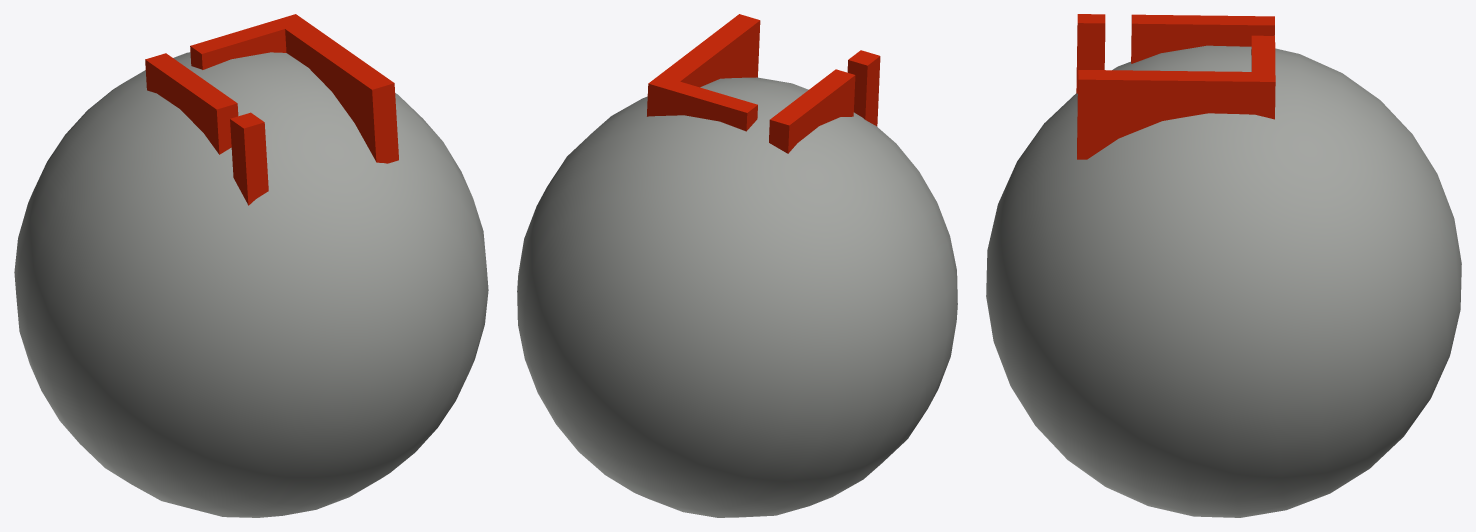
The picture shows the model from 3 angles, left to right: view 1: azimuth 30°, elevation 25°; view 2: azimuth 150°, elevation 25°; view 3: azimuth 270°, elevation 25°; orthographic projection. The views are drawn at different scales.
Visible parts, largest first — view 1: Li; view 2: Li; view 3: Li.
Boxes of the visible parts, x1,y1,x2,y2 form: Li: [14, 14, 488, 517]; Li: [517, 14, 957, 517]; Li: [986, 14, 1461, 517].
Size of the model in its own units: 38.73 by 40.39 by 38.65.
